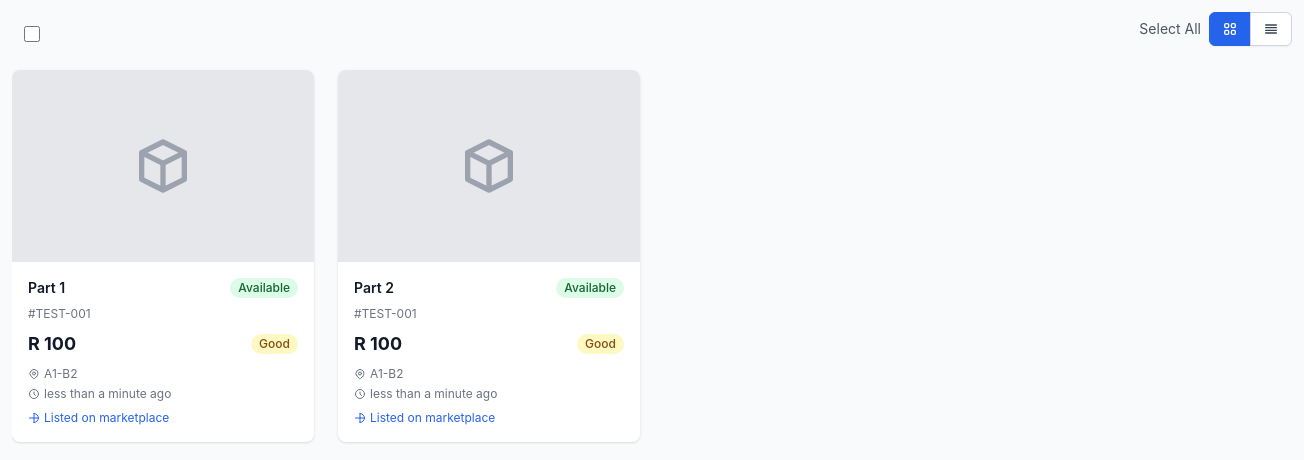
Test: PartsList › Select All Functionality › deselects all parts when Deselect All is clicked
Click the button "Select All" at (1170, 29), box top-left (1139, 19), bottom-right (1201, 39)
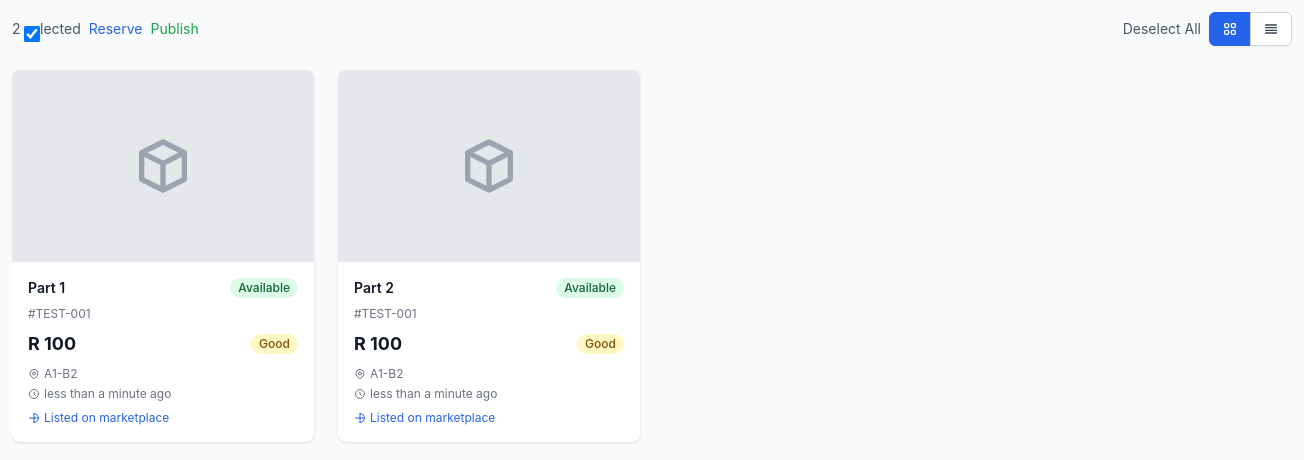
Click the button "Deselect All" at (1162, 29), box top-left (1123, 19), bottom-right (1201, 39)
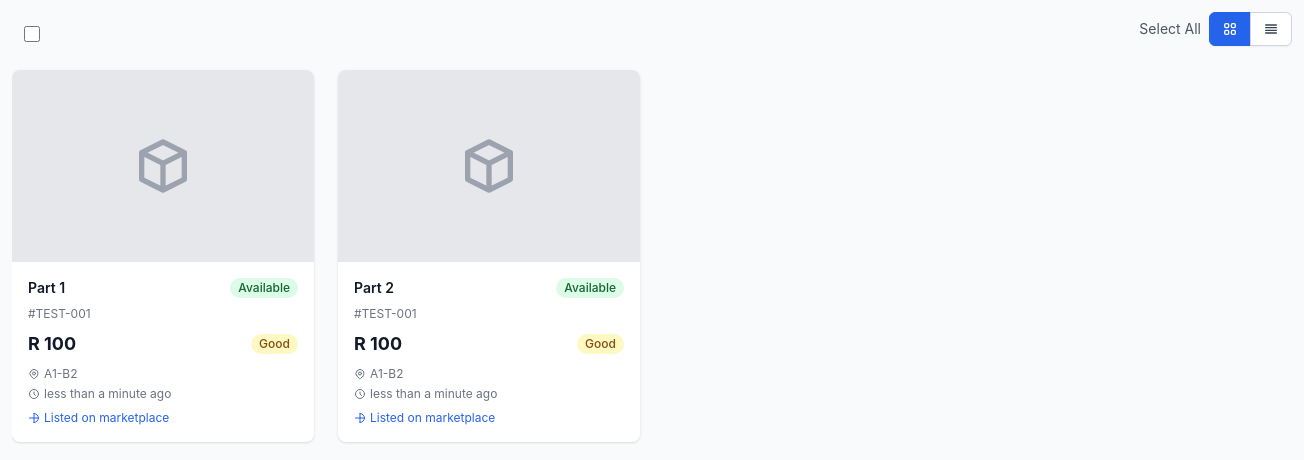
Result: the 1st checkbox is not checked at top-left (24, 26), bottom-right (40, 42)
Result: the checkbox is not checked at top-left (24, 26), bottom-right (40, 42)
